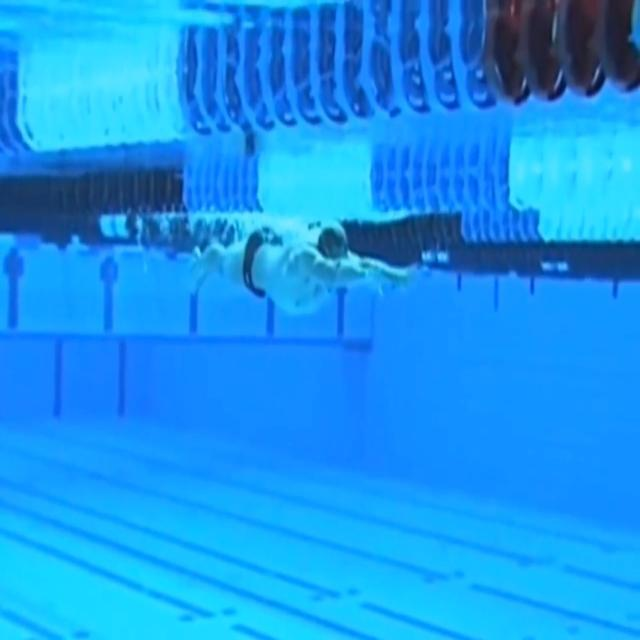Swimming: (188, 222, 422, 316)
